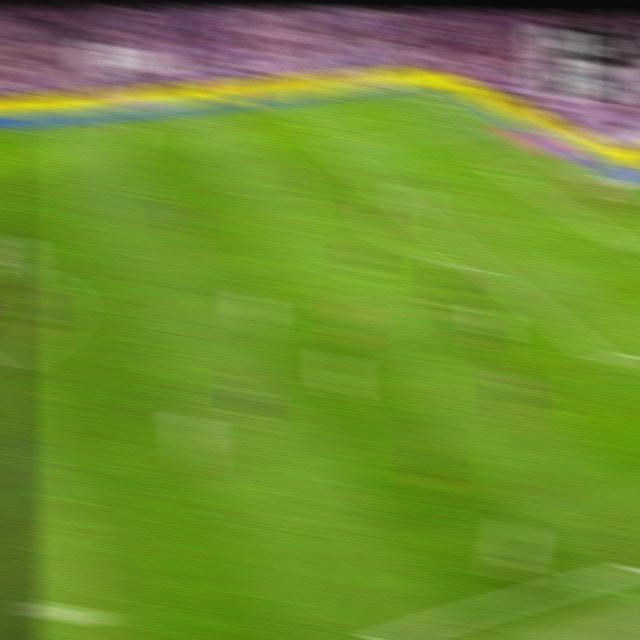bigarea_bottom_inner: (593, 349, 621, 376)
bigarea_top_inner: (321, 140, 345, 156)
bigarea_top_outter: (474, 116, 499, 132)
bottom_arc_area_intersection: (471, 257, 497, 278)
smallarea_top_inner: (490, 164, 513, 177)
top_arc_area_intersection: (379, 186, 405, 205)
